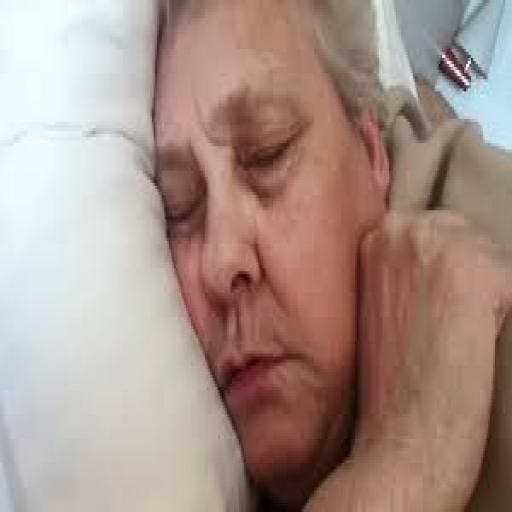sleeping: (148, 0, 510, 509)
